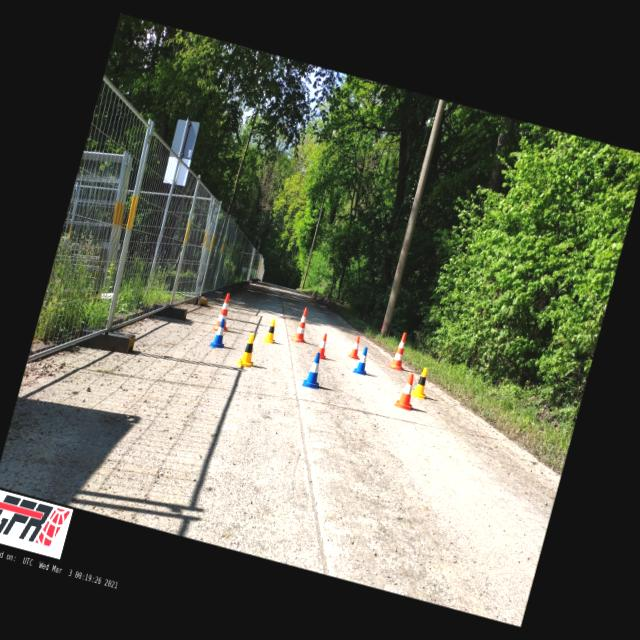blue_cone: (302, 351, 326, 389), (210, 318, 230, 349), (352, 345, 372, 375)
large_orange_cone: (388, 330, 412, 370), (212, 292, 236, 332), (290, 306, 312, 343)
orange_cone: (394, 372, 419, 410), (313, 332, 332, 360), (348, 335, 362, 359)
yellow_cone: (236, 332, 260, 369), (410, 366, 432, 398), (262, 317, 280, 344)
